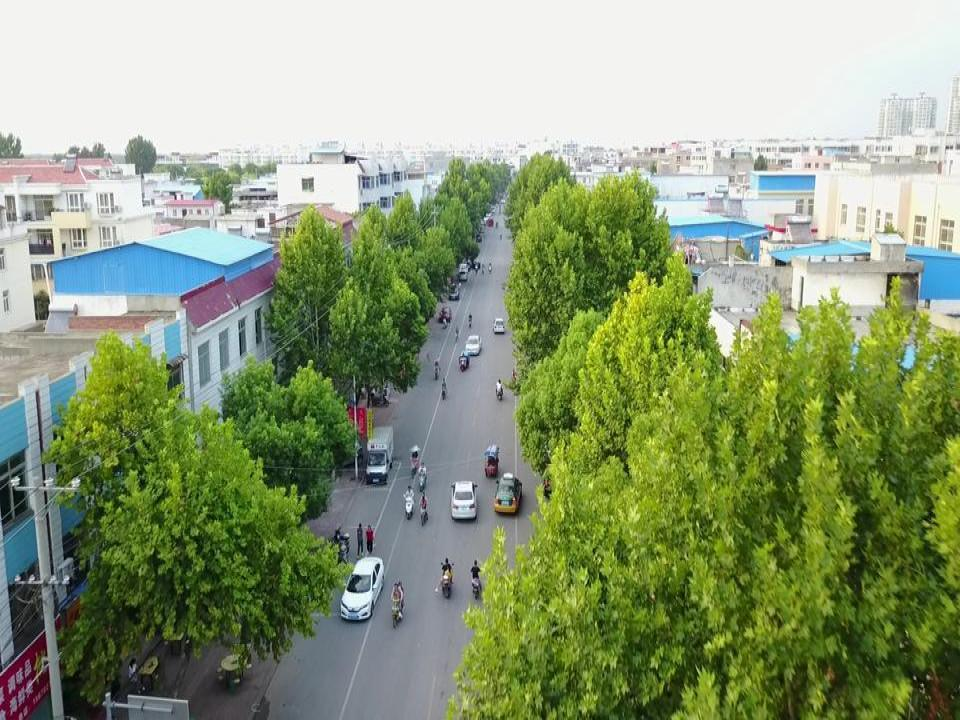car: (339, 556, 384, 615), (493, 473, 523, 515), (315, 439, 362, 465), (448, 481, 476, 519), (464, 333, 481, 356), (492, 316, 504, 332), (439, 306, 451, 322), (449, 286, 460, 302), (458, 261, 467, 272), (459, 271, 468, 281), (471, 259, 480, 268), (474, 233, 482, 243), (477, 223, 484, 233), (489, 205, 496, 212), (482, 214, 488, 221), (501, 197, 504, 204)
truck: (364, 425, 392, 484)
